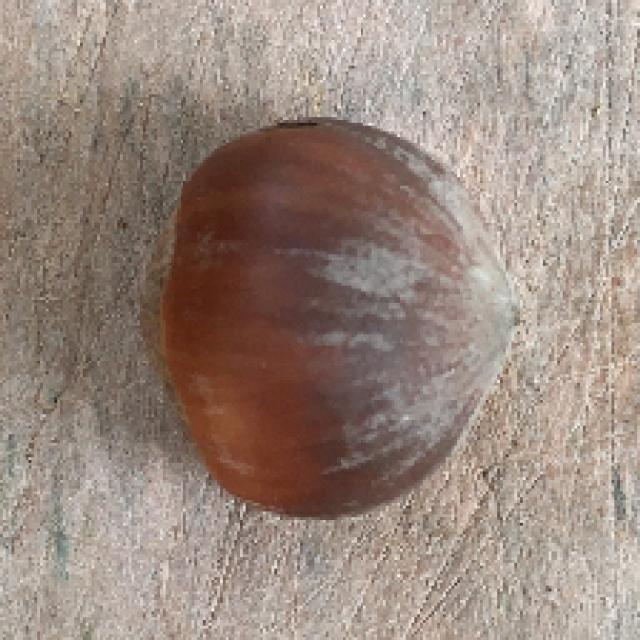damagedHazelnut: (139, 105, 520, 549)
